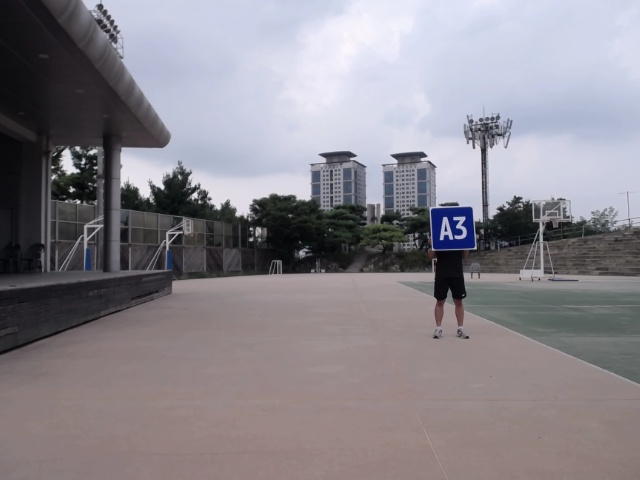delivery_a3: (429, 206, 477, 250)
